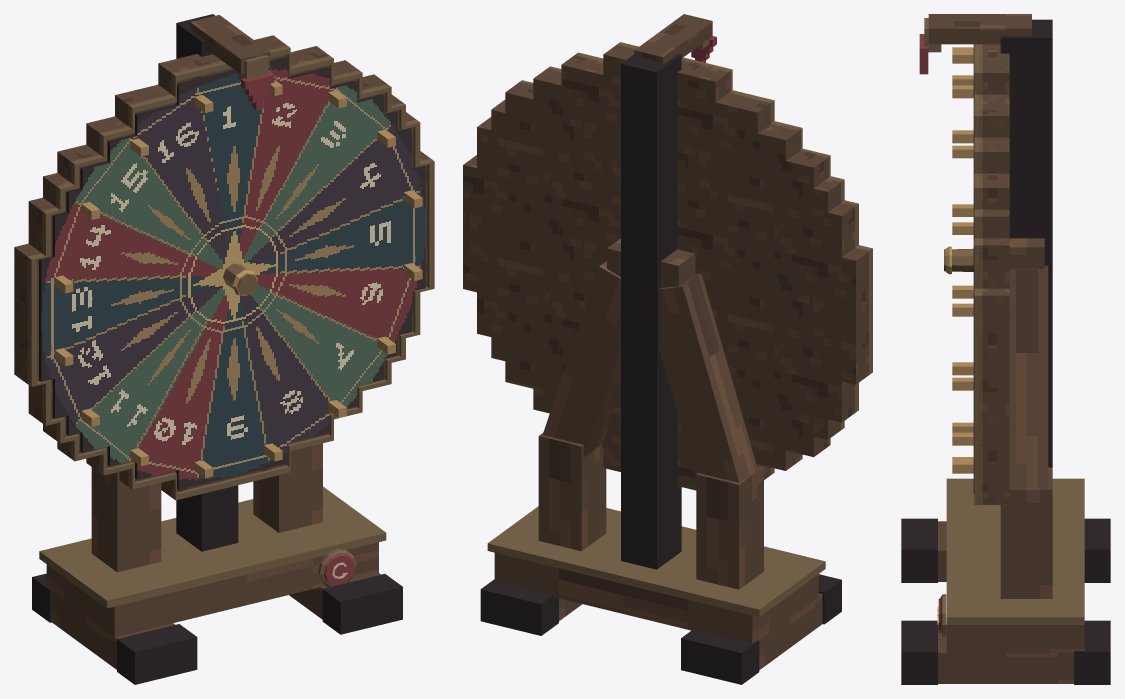
Rendered from wheel-of-fortune.glb.
The picture shows the model from 3 angles, left to right: view 1: azimuth 30°, elevation 25°; view 2: azimuth 150°, elevation 25°; view 3: azimuth 270°, elevation 25°; orthographic projection. The views are drawn at different scales.
Parts seen in each view (by area): view 1: Printed wheel, Plinth cap, Stepped wood drum, Metal-bound rim, Plinth, Lower post, Lower post.001, Fixed upright, Foot cap, Foot cap.002, Pointer bracket, Sled foot (+4 smaller); view 2: Stepped wood drum, Fixed upright, Fork, Plinth cap, Plinth, Fork.001, Lower post, Lower post.001, Foot cap.001, Foot cap.003, Metal-bound rim, Pointer bracket (+3 smaller); view 3: Stepped wood drum, Plinth cap, Fixed upright, Fork.001, Lower post.001, Sled foot.001, Metal-bound rim, Plinth, Pointer bracket, Foot cap, Foot cap.002, Foot cap.003 (+5 smaller).
Boxes of the visible parts, left/top/right/bottom form: Printed wheel: left=39, top=57, right=425, bottom=489; Plinth cap: left=39, top=486, right=386, bottom=608; Stepped wood drum: left=14, top=35, right=431, bottom=497; Metal-bound rim: left=27, top=45, right=434, bottom=500; Plinth: left=46, top=542, right=378, bottom=637; Lower post: left=91, top=467, right=161, bottom=572; Lower post.001: left=253, top=443, right=322, bottom=532; Fixed upright: left=176, top=14, right=238, bottom=551; Foot cap: left=117, top=624, right=197, bottom=684; Foot cap.002: left=322, top=574, right=402, bottom=634; Pointer bracket: left=190, top=15, right=270, bottom=74; Sled foot: left=52, top=592, right=175, bottom=669; Stepped wood drum: left=463, top=44, right=869, bottom=490; Fixed upright: left=621, top=53, right=681, bottom=569; Fork: left=659, top=273, right=759, bottom=482; Plinth cap: left=487, top=506, right=825, bottom=617; Plinth: left=494, top=553, right=818, bottom=643; Fork.001: left=542, top=261, right=620, bottom=457; Lower post: left=696, top=466, right=763, bottom=589; Lower post.001: left=538, top=433, right=606, bottom=551; Foot cap.001: left=681, top=629, right=759, bottom=684; Foot cap.003: left=480, top=579, right=558, bottom=635; Metal-bound rim: left=490, top=42, right=872, bottom=474; Pointer bracket: left=634, top=14, right=712, bottom=64; Stepped wood drum: left=978, top=44, right=1009, bottom=504; Plinth cap: left=946, top=478, right=1084, bottom=624; Fixed upright: left=1000, top=19, right=1052, bottom=467; Fork.001: left=1009, top=265, right=1048, bottom=488; Lower post.001: left=1000, top=467, right=1052, bottom=598; Sled foot.001: left=938, top=624, right=1073, bottom=683; Metal-bound rim: left=974, top=44, right=982, bottom=504; Plinth: left=946, top=625, right=1084, bottom=652; Pointer bracket: left=928, top=14, right=1031, bottom=44; Foot cap: left=901, top=518, right=937, bottom=582; Foot cap.002: left=901, top=620, right=937, bottom=684; Foot cap.003: left=1074, top=620, right=1110, bottom=684.
Bounding box in the file's own units: 1.72 × 2.39 × 0.7578.
Materials: 7 (2 with a texture image).
